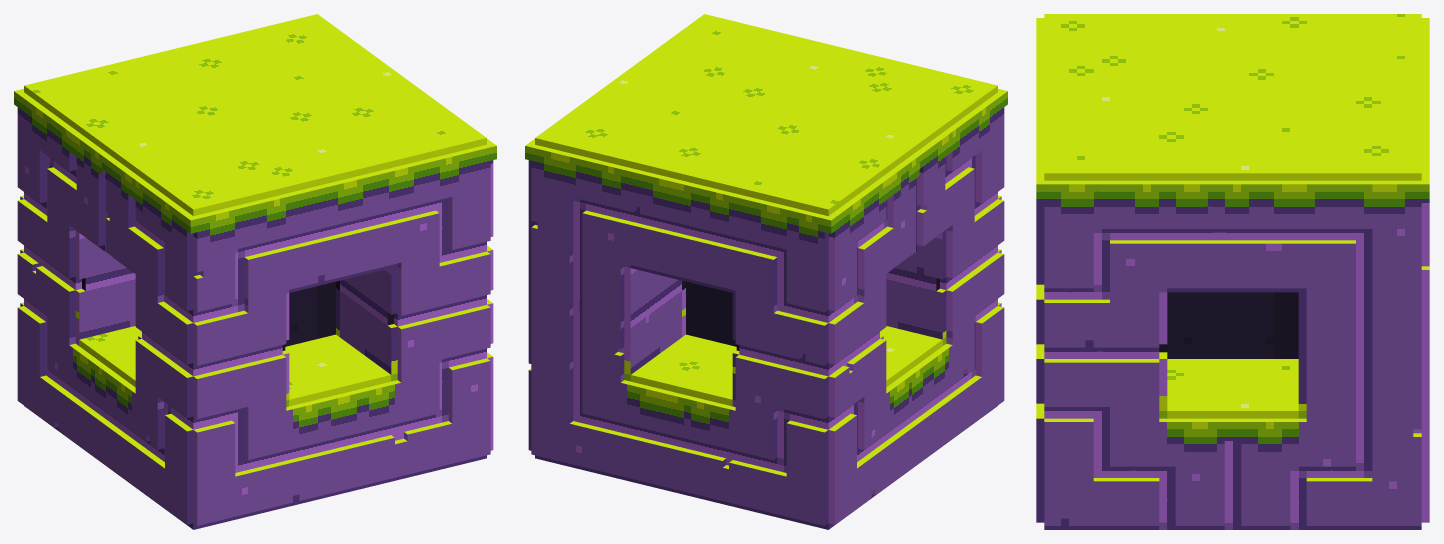
File: 4_side_blockao.fezao.glb
3 views of the same model, side by side, from view 1: azimuth 30°, elevation 25°; view 2: azimuth 150°, elevation 25°; view 3: azimuth 270°, elevation 25° (orthographic). The views are drawn at different scales.
Parts seen in each view (by area): view 1: 4_SIDE_BLOCKAO; view 2: 4_SIDE_BLOCKAO; view 3: 4_SIDE_BLOCKAO.
Boxes of the visible parts, x1,y1,x2,y2 form: 4_SIDE_BLOCKAO: [14, 14, 496, 529]; 4_SIDE_BLOCKAO: [525, 14, 1007, 529]; 4_SIDE_BLOCKAO: [1036, 14, 1429, 529].
Bounding box in the file's own units: 3 × 3 × 3.
1 material, 1 textured.
